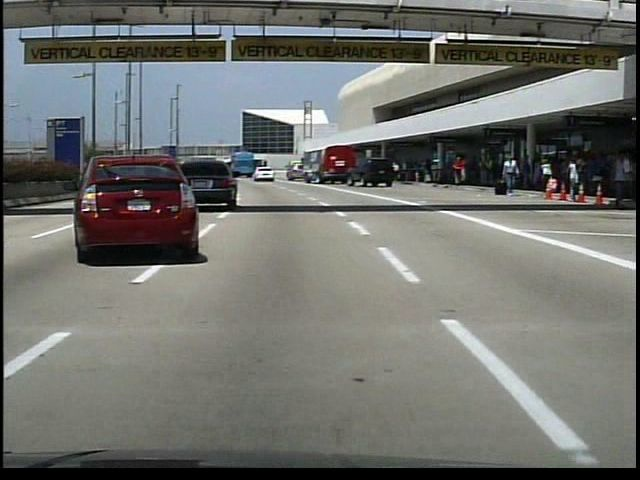person: (608, 155, 627, 206), (499, 153, 520, 197), (450, 156, 467, 186), (390, 162, 402, 184)
